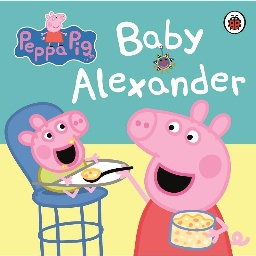Peppa: (115, 98, 250, 256)
